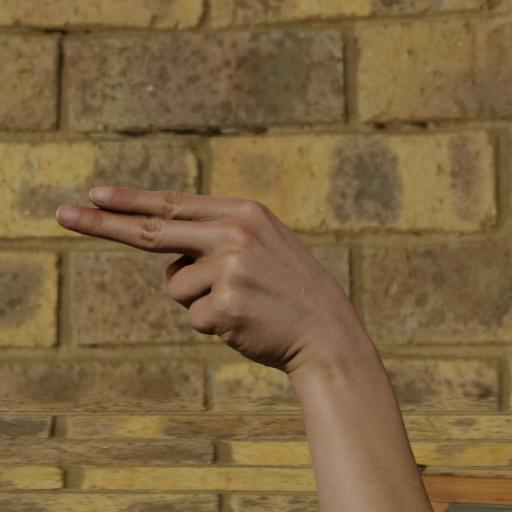H: (29, 129, 423, 501)
